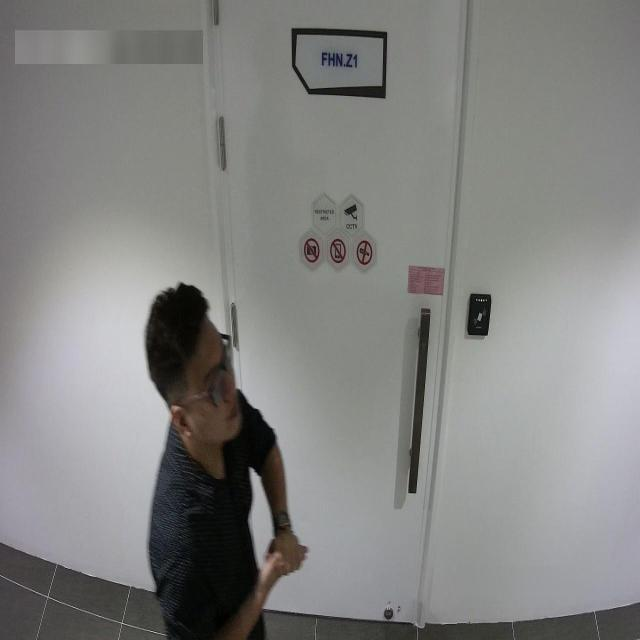no_gloves: (151, 285, 196, 378)
no_hairnet: (206, 382, 244, 435)
